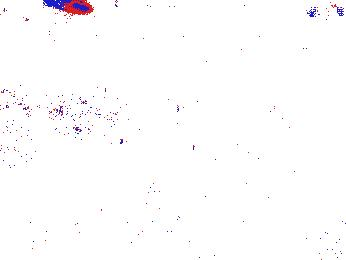X-ray fish: (47, 87, 116, 131)
red belly glassfish: (43, 1, 93, 15), (299, 39, 335, 55)
redtail glassfish: (305, 1, 346, 23)
